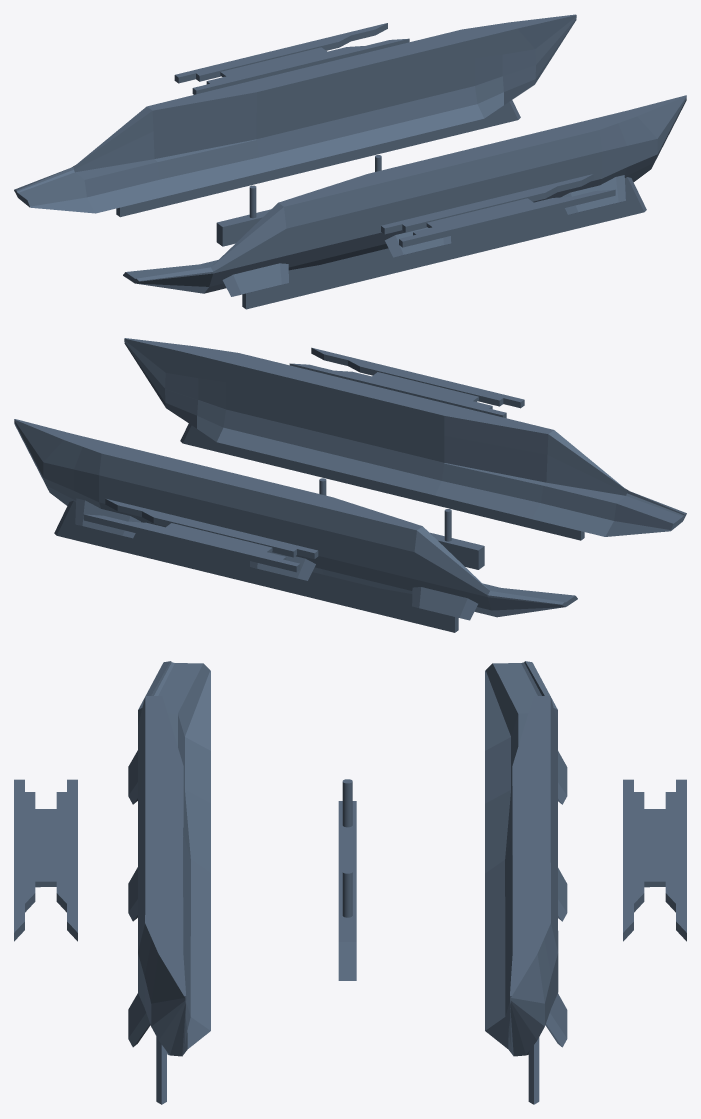
The picture shows the model from 3 angles, top to bottom: view 1: azimuth 30°, elevation 25°; view 2: azimuth 150°, elevation 25°; view 3: azimuth 270°, elevation 25°; orthographic projection. The views are drawn at different scales.
Visible parts, largest first — view 1: 立方体.024, 立方体.015, 立方体.014, 立方体.020, 立方体.005, 立方体, 立方体.017, 立方体.007, 立方体.002, 立方体.003, 立方体.008, 立方体.019 (+6 smaller); view 2: 立方体.015, 立方体.024, 立方体.020, 立方体.014, 立方体.002, 立方体.016, 立方体.007, 立方体.005, 立方体, 立方体.001, 立方体.006, 立方体.027 (+6 smaller); view 3: 立方体.024, 立方体.015, 立方体.013, 立方体, 立方体.002, 立方体.005, 立方体.007, 立方体.004, 立方体.009, 立方体.001, 立方体.006, 立方体.008 (+4 smaller).
Part boxes in pixels (x1,y1,x2,y2): 立方体.024: (14, 14, 576, 213); 立方体.015: (123, 95, 686, 293); 立方体.014: (242, 177, 646, 309); 立方体.020: (116, 100, 520, 217); 立方体.005: (399, 189, 615, 247); 立方体: (192, 38, 409, 94); 立方体.017: (222, 263, 288, 296); 立方体.007: (381, 174, 593, 234); 立方体.002: (174, 23, 387, 83); 立方体.003: (196, 35, 351, 81); 立方体.008: (402, 186, 557, 232); 立方体.019: (561, 175, 625, 214); 立方体.015: (124, 338, 686, 536); 立方体.024: (14, 419, 577, 617); 立方体.020: (54, 500, 458, 632); 立方体.014: (180, 423, 584, 540); 立方体.002: (83, 514, 300, 572); 立方体.016: (412, 587, 477, 620); 立方体.007: (289, 363, 506, 418); 立方体.005: (311, 347, 524, 408); 立方体: (105, 498, 318, 559); 立方体.001: (142, 511, 296, 557); 立方体.006: (348, 360, 503, 406); 立方体.027: (75, 498, 140, 538); 立方体.024: (485, 661, 558, 1056); 立方体.015: (138, 661, 210, 1056); 立方体.013: (338, 801, 356, 980); 立方体: (623, 779, 633, 941); 立方体.002: (676, 779, 686, 941); 立方体.005: (14, 779, 24, 941); 立方体.007: (67, 779, 77, 941); 立方体.004: (644, 809, 665, 887); 立方体.009: (35, 809, 56, 887); 立方体.001: (633, 792, 644, 912); 立方体.006: (24, 792, 35, 912); 立方体.008: (56, 792, 67, 912).
Size of the model in its own units: 8.26 by 1.38 by 5.88.
